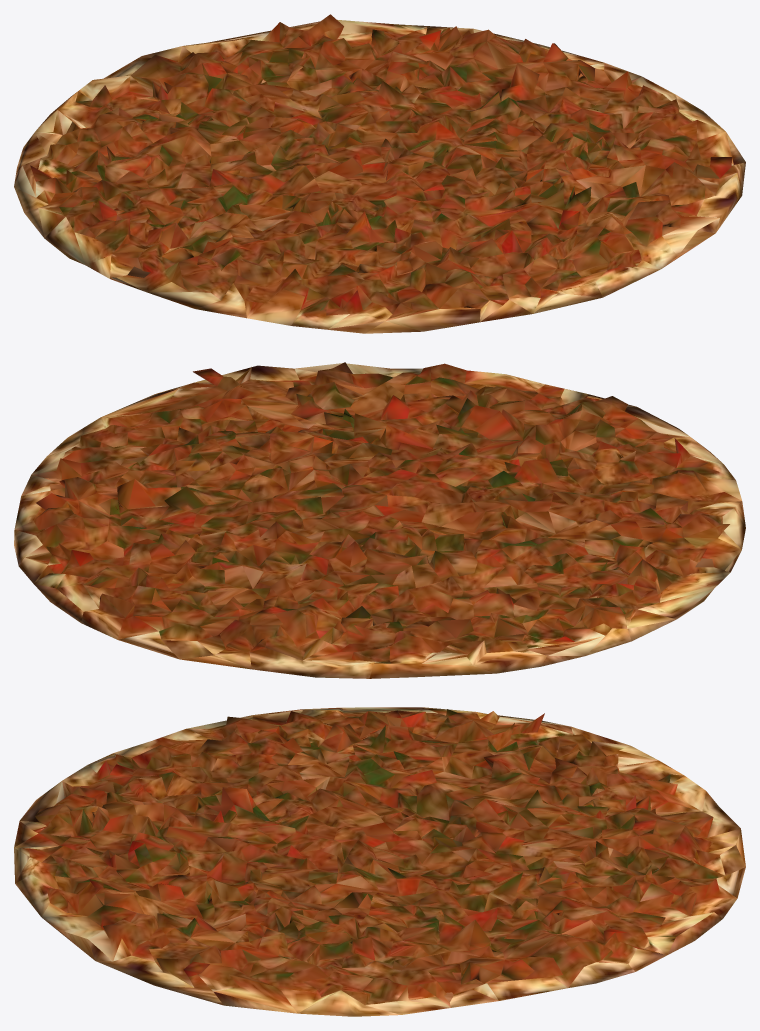
File: lahmacun.glb
3 renders of one model, top to bottom at view 1: azimuth 30°, elevation 25°; view 2: azimuth 150°, elevation 25°; view 3: azimuth 270°, elevation 25°, orthographic. The views are drawn at different scales.
Visible parts, largest first — view 1: Mesh_0; view 2: Mesh_0; view 3: Mesh_0.
Boxes of the visible parts, x1,y1,x2,y2 form: Mesh_0: (14, 14, 745, 333); Mesh_0: (14, 362, 745, 678); Mesh_0: (14, 707, 745, 1016).
Size of the model in its own units: 0.32 by 0.0178 by 0.32.
Materials: 1 (1 with a texture image).
